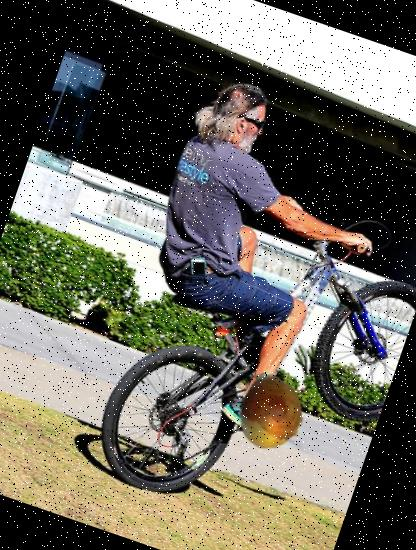Onion: (223, 364, 320, 461)
